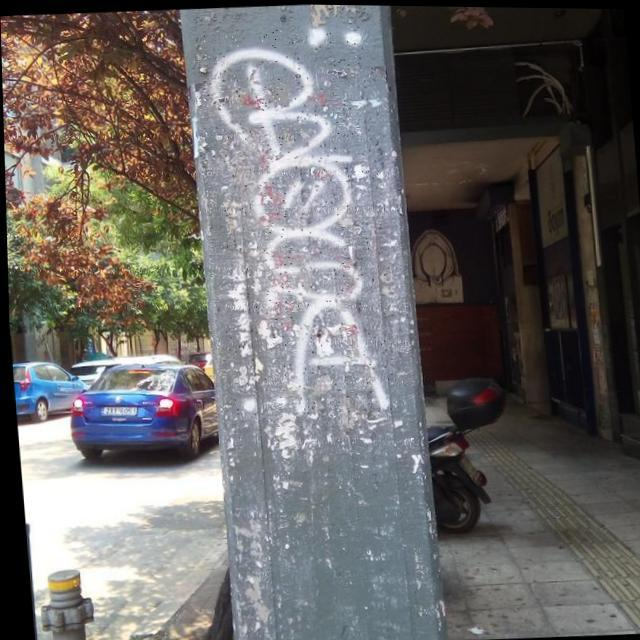-: (201, 22, 396, 418)
